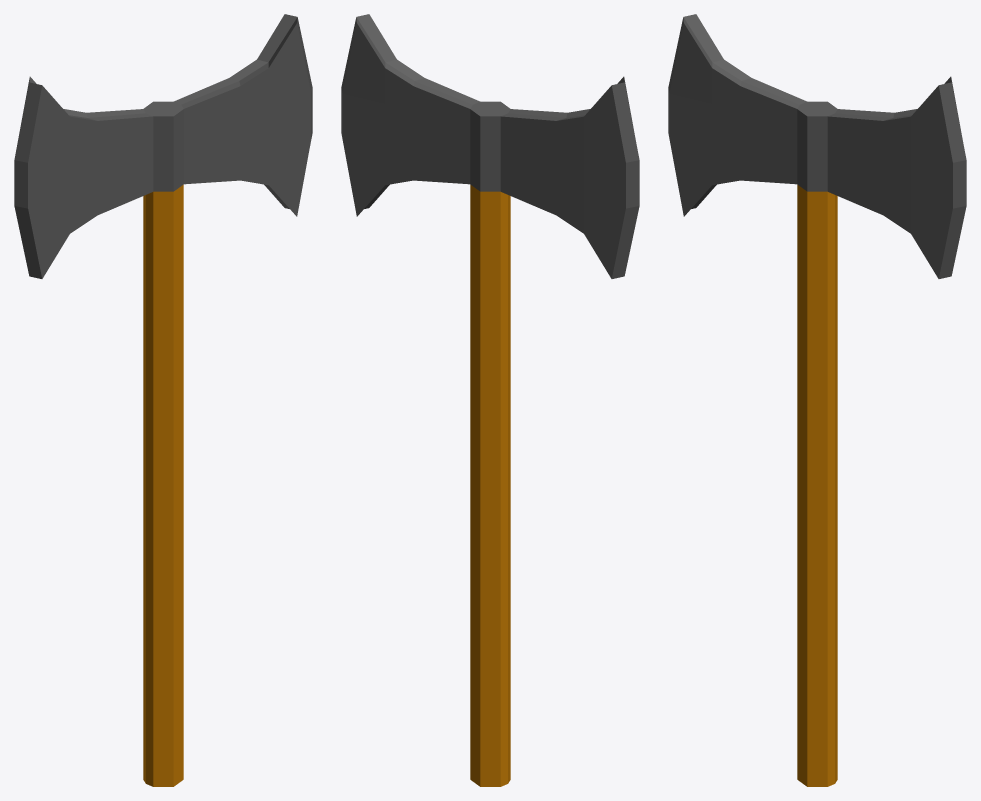
File: BattleAxe_01.fbx
The picture shows the model from 3 angles, left to right: view 1: azimuth 30°, elevation 25°; view 2: azimuth 150°, elevation 25°; view 3: azimuth 330°, elevation 25°; orthographic projection.
Visible parts, largest first — view 1: BattleAxe_01; view 2: BattleAxe_01; view 3: BattleAxe_01.
Boxes of the visible parts, box(x1,y1,x2,y2) form: BattleAxe_01: box(14, 14, 312, 786); BattleAxe_01: box(341, 14, 639, 786); BattleAxe_01: box(668, 14, 966, 786).
Size of the model in its own units: 30.03 by 70.23 by 3.54.
